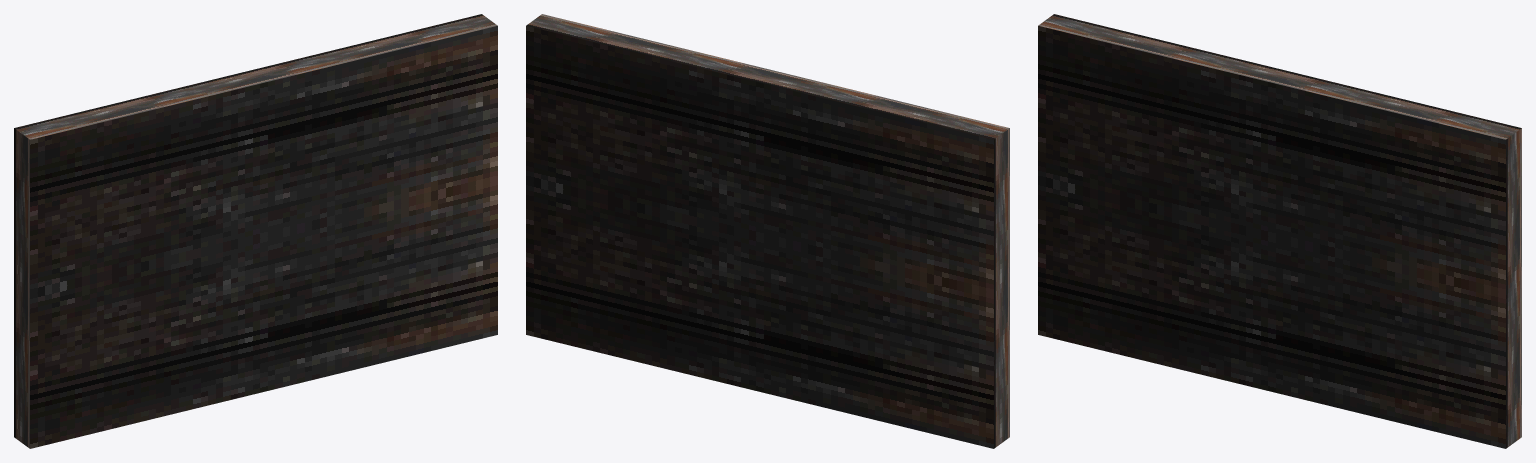
Rendered from primary_111.glb.
The picture shows the model from 3 angles, left to right: view 1: azimuth 30°, elevation 25°; view 2: azimuth 150°, elevation 25°; view 3: azimuth 330°, elevation 25°; orthographic projection.
Visible parts, largest first — view 1: Object; view 2: Object; view 3: Object.
Boxes of the visible parts, box(x1,y1,x2,y2) form: Object: box(14, 14, 497, 448); Object: box(526, 14, 1009, 448); Object: box(1038, 14, 1521, 448).
Bounding box in the file's own units: 7.36 × 4.65 × 0.4357.
Materials: 3 (3 with a texture image).
